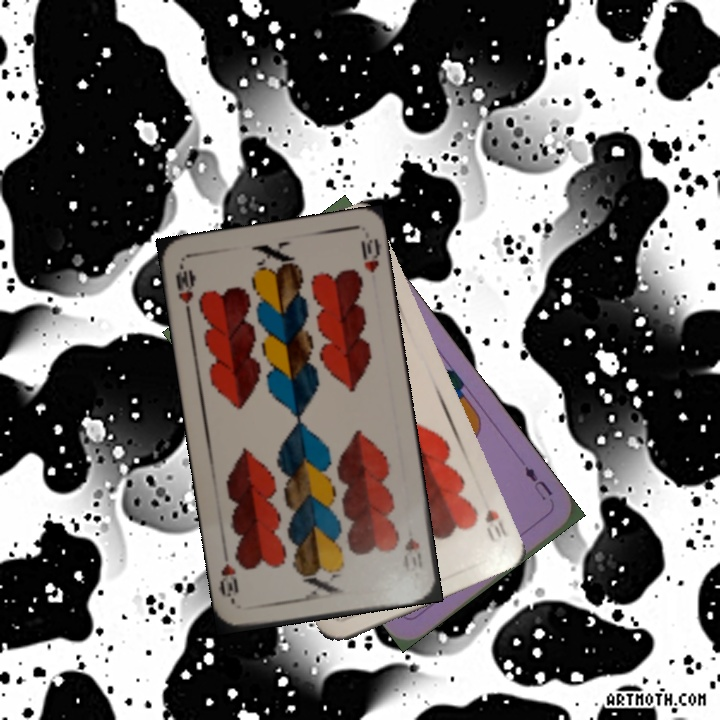EU: (520, 462, 555, 503)
H10: (172, 260, 197, 320), (481, 505, 509, 547), (400, 534, 425, 575)
